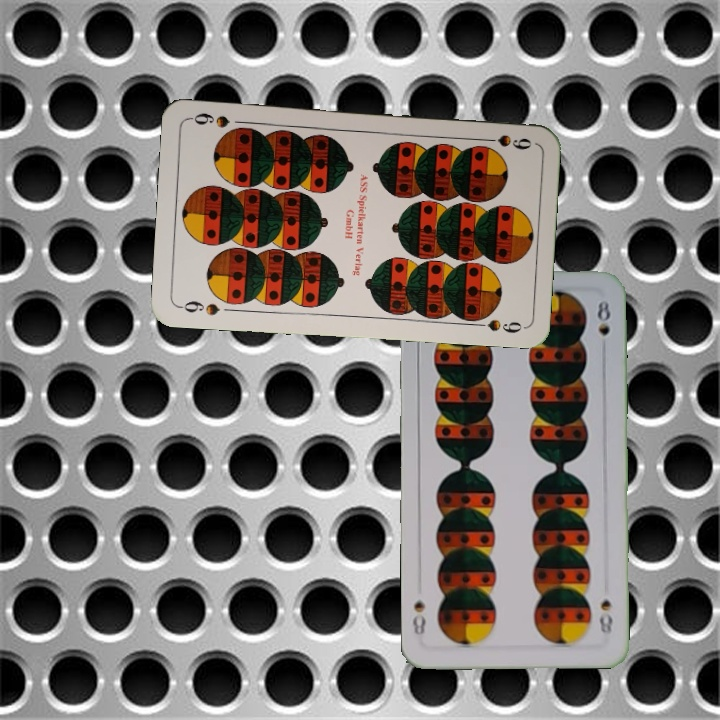S8: (595, 595, 615, 637)
S9: (476, 130, 534, 152), (175, 297, 222, 318)
